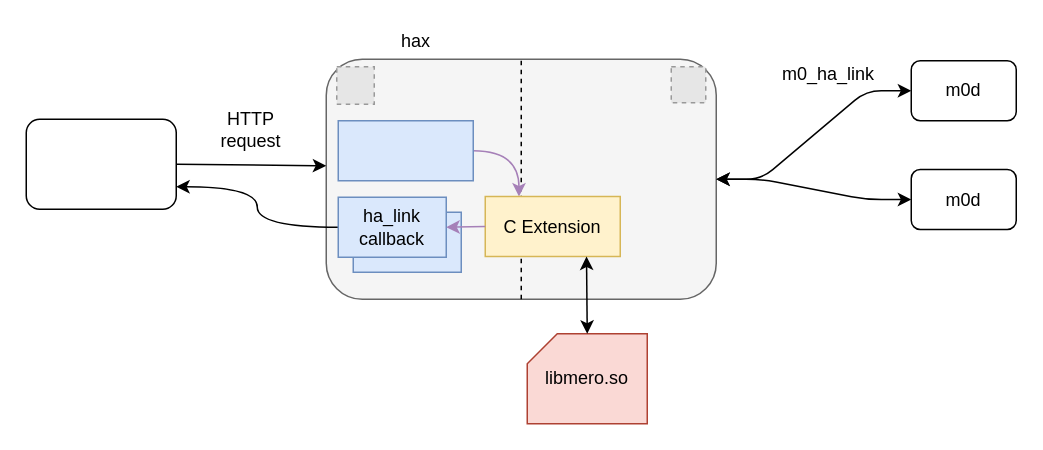
This 1043x450 diagram has some shape labels left out. Grey dashed boxes stand in for pictures. Here are the shapes that lost their labels. From the top down, the box of each, then its label:
(25, 118, 176, 209): Consul agent
(337, 119, 473, 181): Simple HTTP Server
